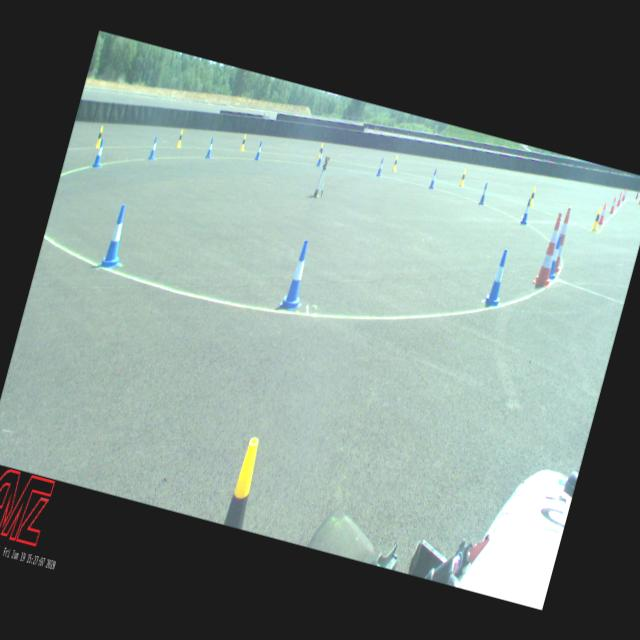blue_cone: (278, 237, 318, 312), (98, 202, 134, 270), (484, 248, 512, 306), (546, 235, 564, 280), (92, 138, 107, 168), (520, 198, 532, 225), (148, 136, 160, 160), (204, 137, 216, 159), (478, 182, 489, 204), (428, 169, 438, 189), (254, 140, 264, 160), (316, 148, 324, 167), (376, 158, 384, 176)
large_orange_cone: (532, 210, 568, 288), (549, 206, 575, 274)
orange_cone: (598, 202, 608, 224), (608, 196, 618, 213), (616, 192, 622, 206), (621, 188, 627, 200), (638, 191, 640, 204)
unknown_cone: (635, 190, 639, 198)
yellow_cone: (223, 435, 266, 529), (590, 206, 602, 231), (95, 126, 104, 148), (528, 186, 537, 206), (176, 128, 185, 148), (458, 168, 467, 187), (391, 154, 399, 172), (240, 134, 248, 151), (317, 143, 323, 158)
